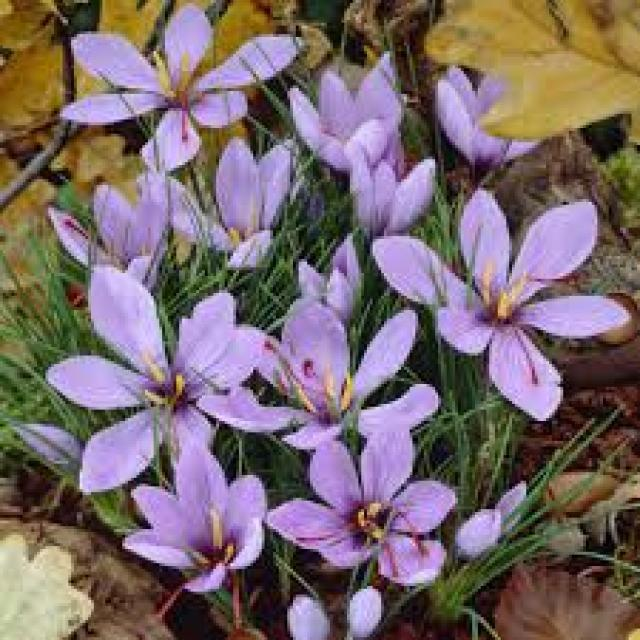Flower: (372, 194, 622, 406), (48, 247, 248, 466), (57, 0, 267, 160), (246, 294, 431, 448), (282, 431, 476, 577), (97, 447, 294, 580), (154, 150, 300, 270), (288, 58, 412, 158)
stigma: (508, 323, 540, 387), (154, 574, 184, 626), (295, 520, 345, 544), (170, 94, 192, 140)
